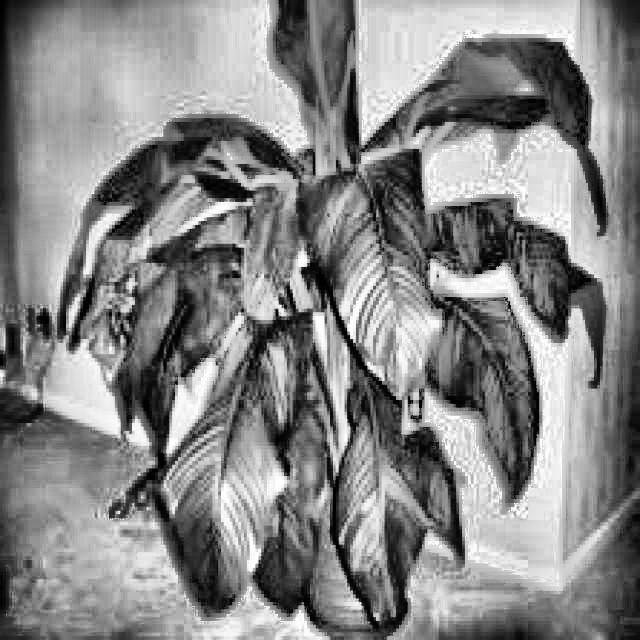plants: (61, 156, 609, 639)
